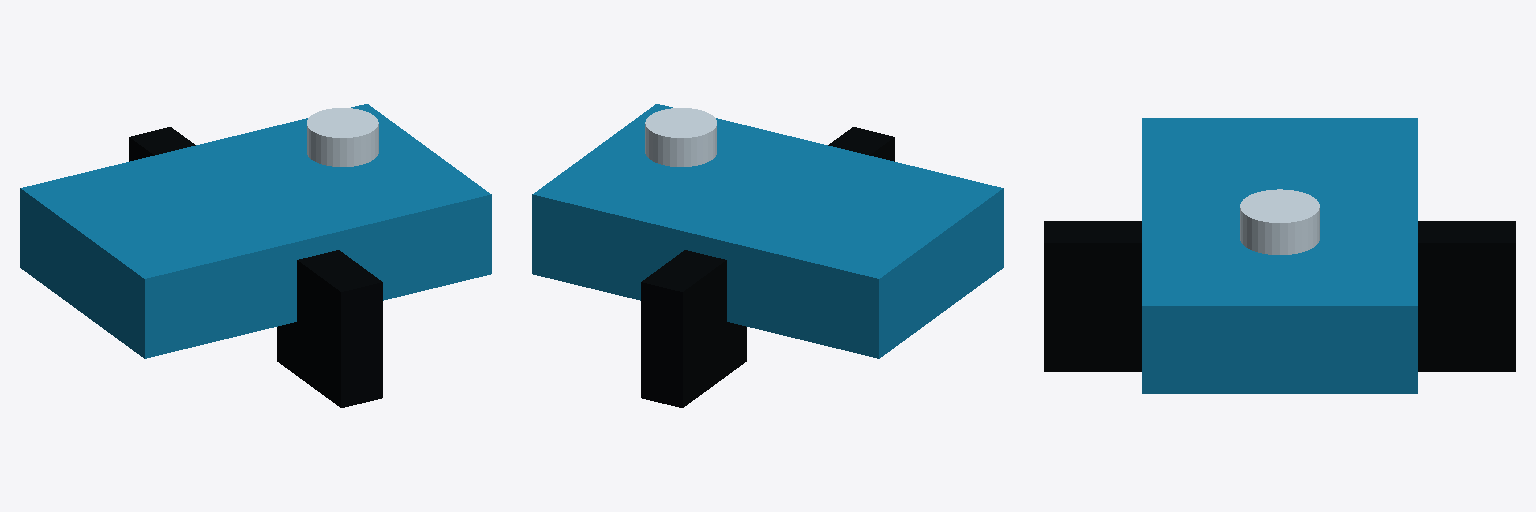
robot.urdf — warehouse_rover:
<?xml version="1.0"?>
<robot name="warehouse_rover" version="1.2">
  <material name="rover_blue">
    <color rgba="0.12 0.55 0.72 1"/>
  </material>
  <material name="rubber">
    <color rgba="0.05 0.06 0.07 1"/>
  </material>
  <material name="sensor">
    <color rgba="0.82 0.88 0.92 1"/>
  </material>
  <link name="base_link">
    <inertial><origin xyz="0 0 0" rpy="0 0 0"/><mass value="18"/><inertia ixx="0.01" ixy="0" ixz="0" iyy="0.01" iyz="0" izz="0.01"/></inertial>
    <visual><origin xyz="0 0 0.28" rpy="0 0 0"/><geometry><mesh filename="package://kineform_examples/warehouse-rover/meshes/chassis.dae"/></geometry><material name="rover_blue"/></visual>
    <collision><origin xyz="0 0 0.28" rpy="0 0 0"/><geometry><box size="1 0.62 0.22"/></geometry></collision>
  </link>
  <link name="left_wheel">
    <inertial><origin xyz="0 0 0" rpy="0 0 0"/><mass value="1.2"/><inertia ixx="0.01" ixy="0" ixz="0" iyy="0.01" iyz="0" izz="0.01"/></inertial>
    <visual><origin xyz="0 0 0" rpy="1.5708 0 0"/><geometry><mesh filename="meshes/wheel.stl"/></geometry><material name="rubber"/></visual>
    <collision><origin xyz="0 0 0" rpy="1.5708 0 0"/><geometry><cylinder radius="0.16" length="0.12"/></geometry></collision>
  </link>
  <link name="right_wheel">
    <inertial><origin xyz="0 0 0" rpy="0 0 0"/><mass value="1.2"/><inertia ixx="0.01" ixy="0" ixz="0" iyy="0.01" iyz="0" izz="0.01"/></inertial>
    <visual><origin xyz="0 0 0" rpy="1.5708 0 0"/><geometry><mesh filename="meshes/wheel.stl"/></geometry><material name="rubber"/></visual>
    <collision><origin xyz="0 0 0" rpy="1.5708 0 0"/><geometry><cylinder radius="0.16" length="0.12"/></geometry></collision>
  </link>
  <link name="lidar">
    <inertial><origin xyz="0 0 0" rpy="0 0 0"/><mass value="0.35"/><inertia ixx="0.01" ixy="0" ixz="0" iyy="0.01" iyz="0" izz="0.01"/></inertial>
    <visual><origin xyz="0 0 0" rpy="0 0 0"/><geometry><cylinder radius="0.09" length="0.08"/></geometry><material name="sensor"/></visual>
    <collision><origin xyz="0 0 0" rpy="0 0 0"/><geometry><cylinder radius="0.09" length="0.08"/></geometry></collision>
  </link>
  <joint name="left_wheel_joint" type="continuous"><parent link="base_link"/><child link="left_wheel"/><origin xyz="0 0.37 0.18" rpy="0 0 0"/><axis xyz="0 1 0"/></joint>
  <joint name="right_wheel_joint" type="continuous"><parent link="base_link"/><child link="right_wheel"/><origin xyz="0 -0.37 0.18" rpy="0 0 0"/><axis xyz="0 1 0"/></joint>
  <joint name="lidar_joint" type="fixed"><parent link="base_link"/><child link="lidar"/><origin xyz="0.25 0 0.48" rpy="0 0 0"/></joint>
</robot>

--- Render facts (derived) ---
The picture shows the robot from 3 angles, left to right: view 1: azimuth 30°, elevation 25°; view 2: azimuth 150°, elevation 25°; view 3: azimuth 270°, elevation 25°; orthographic projection.
Model warehouse_rover with 4 links and 3 joints (2 continuous, 1 fixed), rooted at base_link, posed all joints at 0.
Visible links, largest first — view 1: base_link, right_wheel, lidar, left_wheel; view 2: base_link, left_wheel, lidar, right_wheel; view 3: base_link, left_wheel, right_wheel, lidar.
Boxes of the visible links, x1,y1,x2,y2 form: base_link: (20,104,491,358); right_wheel: (277,250,382,407); lidar: (307,108,378,166); left_wheel: (129,127,195,161); base_link: (532,104,1003,358); left_wheel: (641,250,746,407); lidar: (645,108,716,166); right_wheel: (828,127,894,161); base_link: (1142,118,1417,393); left_wheel: (1418,221,1515,371); right_wheel: (1044,221,1141,371); lidar: (1240,189,1319,254).
Size in the robot's own frame: 1 by 1.06 by 0.5 metres.
3 mesh visuals loaded from 2 distinct referenced files (1 ASCII STL, 1 Collada DAE).
